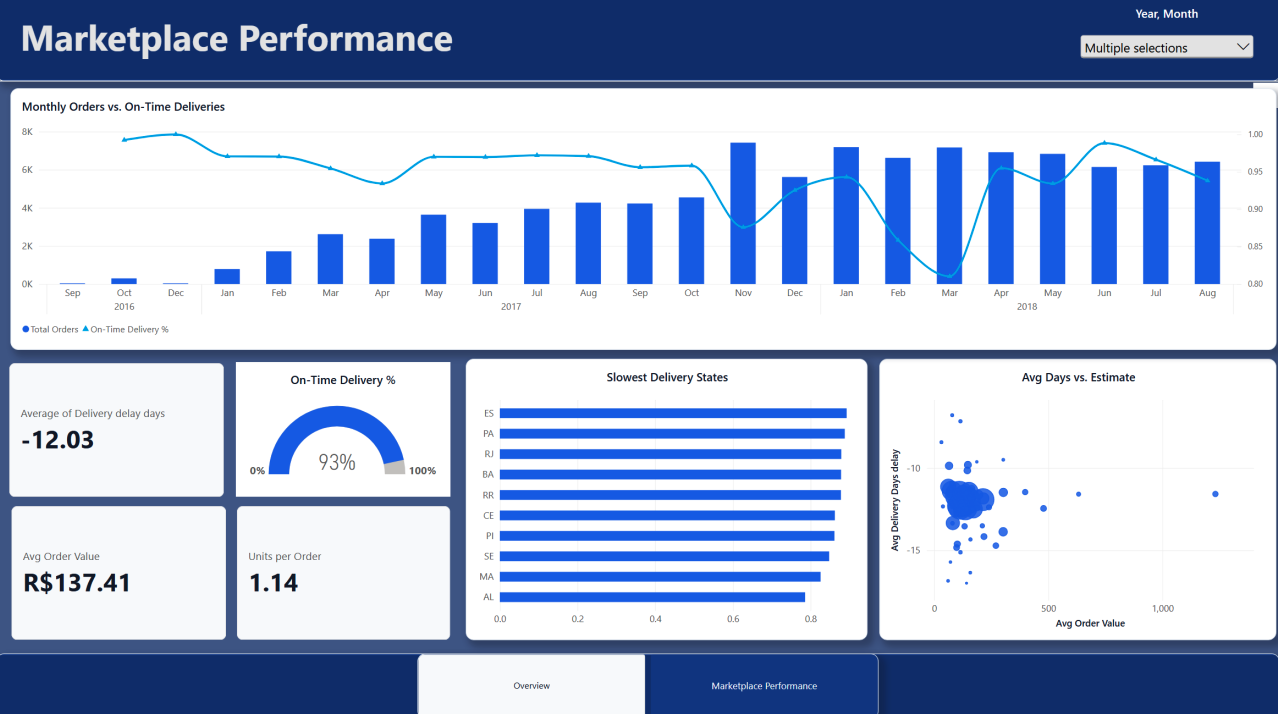

What the dashboard file says about the page in this screenshot:
{"tool":"powerbi","page":{"name":"Marketplace Performance","canvas":[1920,1080],"ordinal":1},"visuals":[{"type":"cardVisual","fields":{"Data":["Avg(adworks_analytics sales_data.delivery_delay_days)"]},"box":[20.3,549.2,321.9,200.3],"z":0},{"type":"cardVisual","fields":{"Data":["adworks_analytics sales_data.Avg Order Value"]},"box":[22.5,763,321.9,200.3],"z":1000},{"type":"cardVisual","fields":{"Data":["adworks_analytics sales_data.Units per Order"]},"box":[360.1,763,319.6,200.3],"z":2000},{"type":"gauge","fields":{"Y":["adworks_analytics sales_data.On-Time Delivery %"]},"box":[359.3,548.1,321,201.3],"z":3000},{"type":"shape","box":[0,0,1921.6,127.7],"z":7000},{"type":"textbox","box":[36.5,24.8,732.6,76.6],"z":8000},{"type":"slicer","title":"Year, Month","fields":{"Values":["adworks_analytics sales_data.order_year","adworks_analytics sales_data.month_name"]},"box":[1616.5,14.6,268.4,87.5],"z":9000},{"type":"shape","box":[0,983.3,1920,97.8],"z":10000},{"type":"pageNavigator","box":[630.3,983.3,690.1,97.8],"z":11000},{"type":"scatterChart","title":" Avg Days vs. Estimate","fields":{"Category":["adworks_analytics sales_data.category_name"],"Size":["adworks_analytics sales_data.Total Orders"],"X":["adworks_analytics sales_data.Avg Order Value"],"Y":["Avg(adworks_analytics sales_data.delivery_delay_days)"]},"box":[1321.3,542.5,594.2,420.9],"z":11001},{"type":"lineClusteredColumnComboChart","title":"Monthly Orders vs. On-Time Deliveries ","fields":{"Category":["adworks_analytics sales_data.order_year","adworks_analytics sales_data.month_name"],"Y":["adworks_analytics sales_data.Total Orders"],"Y2":["adworks_analytics sales_data.On-Time Delivery %"]},"box":[21.3,138.6,1894.1,391.3],"z":11002},{"type":"clusteredBarChart","title":"Slowest Delivery States","fields":{"Category":["adworks_analytics sales_data.customer_state"],"Y":["adworks_analytics sales_data.On-Time Delivery %"]},"box":[702.3,542.5,601,420.9],"z":11003}]}

Visuals, with their boxes in screenshot pixels (x1, y1, x2, y2), scaled from the page's 1920x1080 canvas onto the 1278x714 screenshot:
cardVisual - Avg(adworks_analytics sales_data.delivery_delay_days): BBox(14, 363, 228, 496)
cardVisual - adworks_analytics sales_data.Avg Order Value: BBox(15, 504, 229, 637)
cardVisual - adworks_analytics sales_data.Units per Order: BBox(240, 504, 452, 637)
gauge - adworks_analytics sales_data.On-Time Delivery %: BBox(239, 362, 453, 495)
shape: BBox(0, 0, 1277, 84)
textbox: BBox(24, 16, 512, 67)
"Year, Month" slicer: BBox(1076, 10, 1255, 67)
shape: BBox(0, 650, 1277, 713)
pageNavigator: BBox(420, 650, 879, 713)
" Avg Days vs. Estimate" scatterChart: BBox(879, 359, 1275, 637)
"Monthly Orders vs. On-Time Deliveries " lineClusteredColumnComboChart: BBox(14, 92, 1275, 350)
"Slowest Delivery States" clusteredBarChart: BBox(467, 359, 868, 637)
